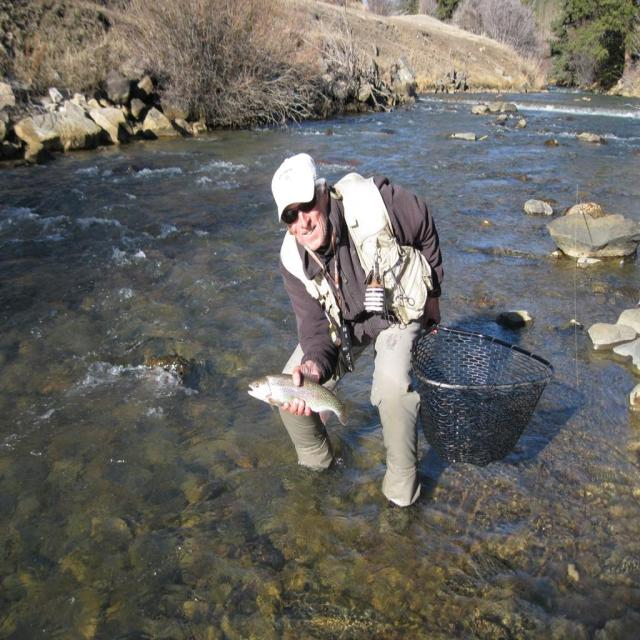Face: (286, 194, 330, 258)
